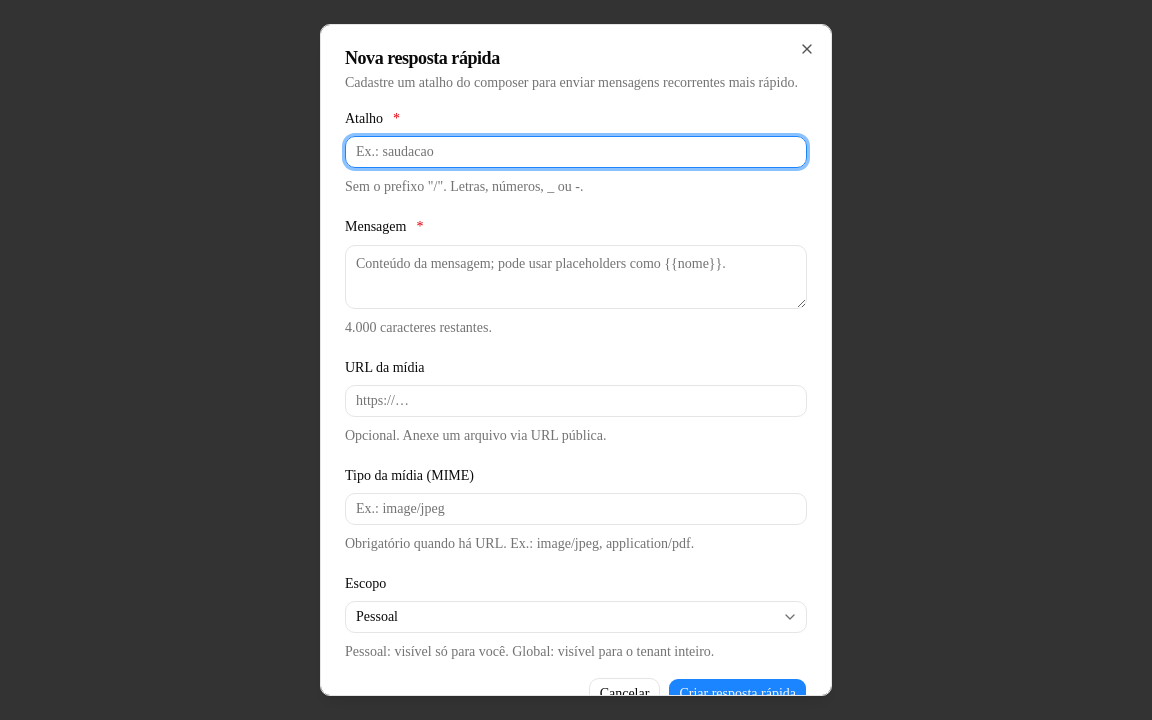
Test: QuickReplyDialog › valida regex do atalho (rejeita espaços e barras)
Step 1. Type "tem espaco" into the field labelled "Atalho *" → (576, 152), box 345,136 -> 807,168
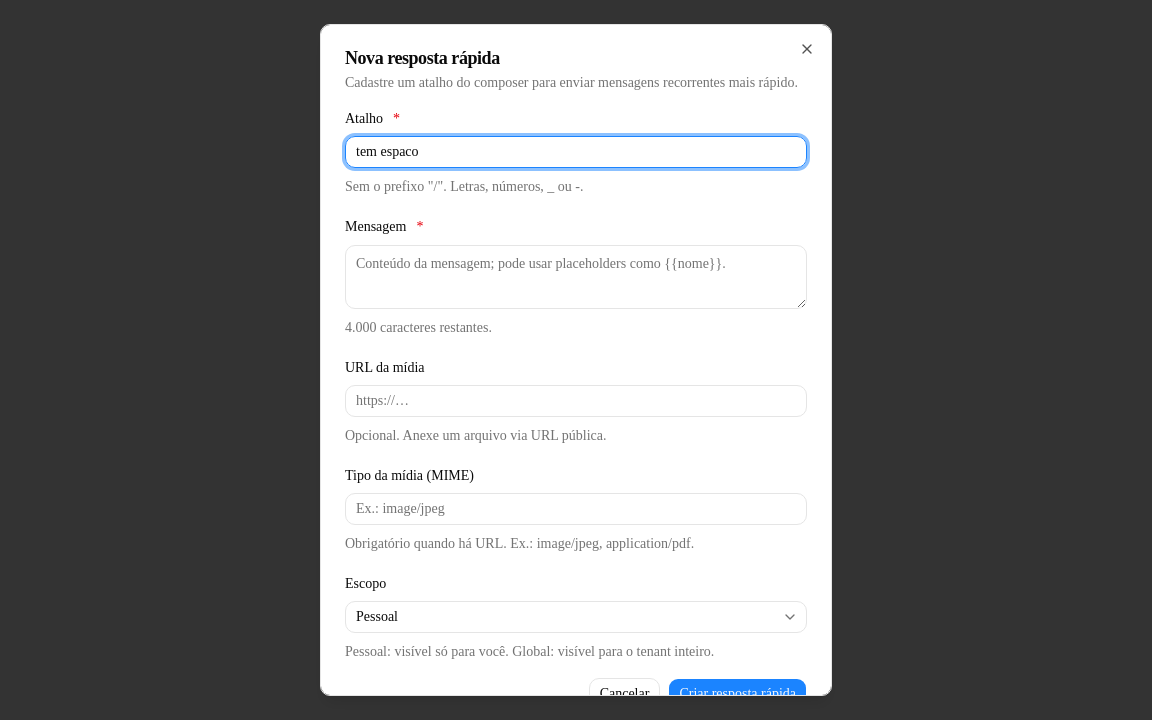
Step 2. Type "oi" into the text box labelled "Mensagem *" → (576, 276), box 345,244 -> 807,308
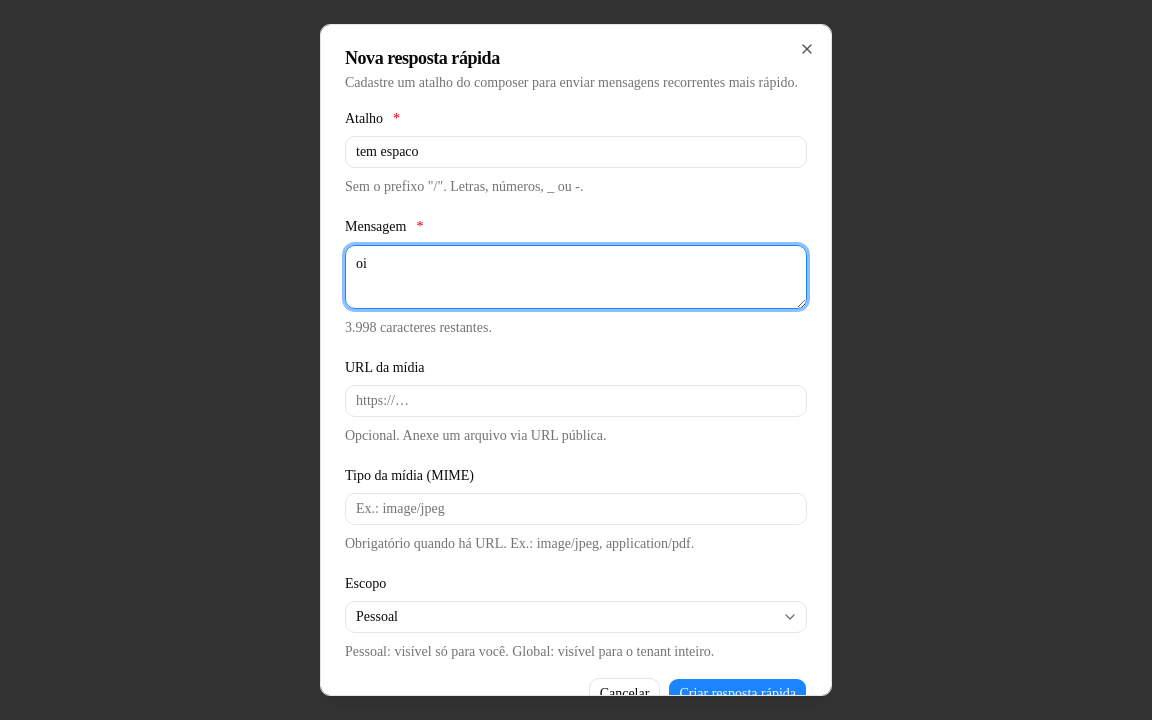
Step 3. Click the button "Criar resposta rápida" → (738, 694), box 668,678 -> 807,710
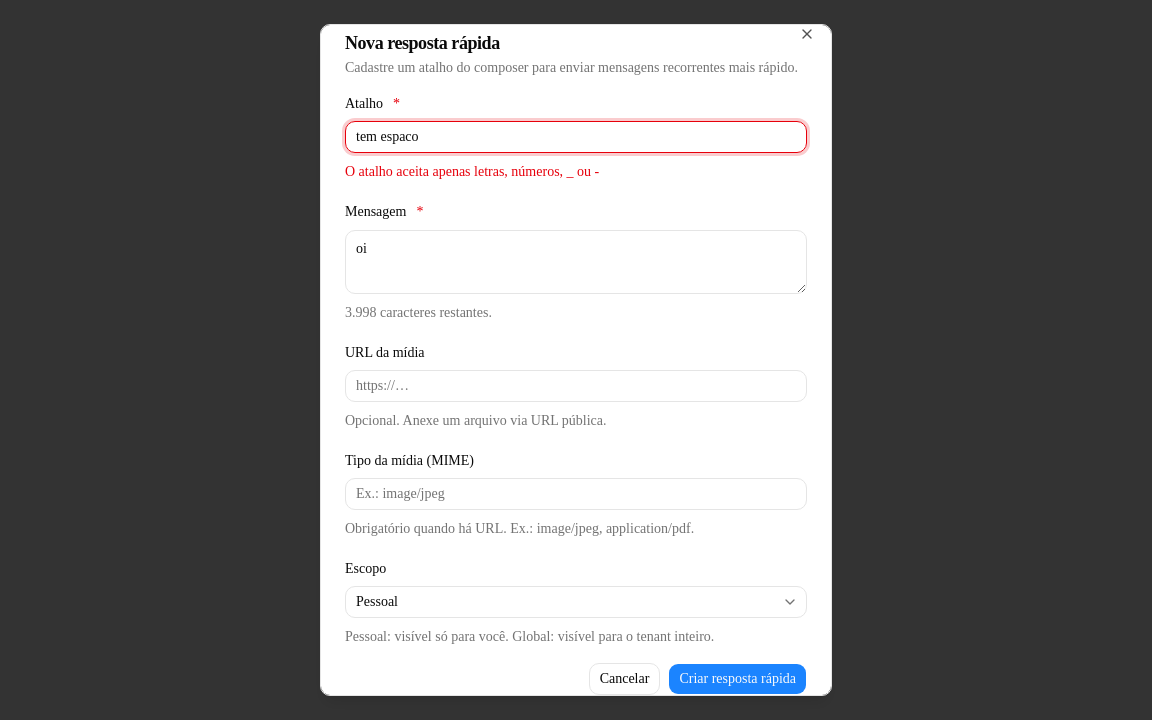
Expected: the text "O atalho aceita apenas letras, números, _ ou -" is shown, 345,164 -> 599,179
